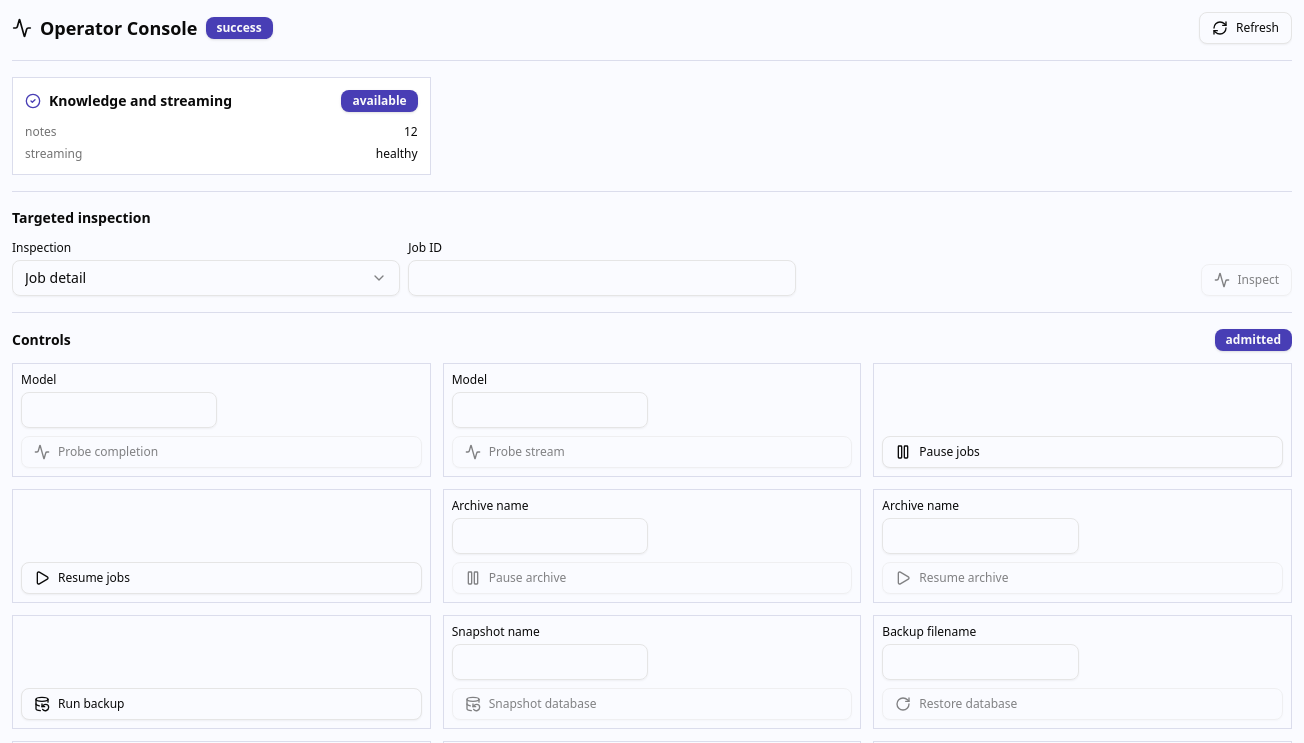
Test case: OperatorConsole › runs a bounded targeted inspection without rendering identifiers
The width and height of the screenshot is (1304, 743).
expect the heading "Knowledge and streaming" is shown: met, box [49,91,232,111]
Type "job-123" into the field labelled "Job ID". click: (602, 278)
box: [408,260,796,296]
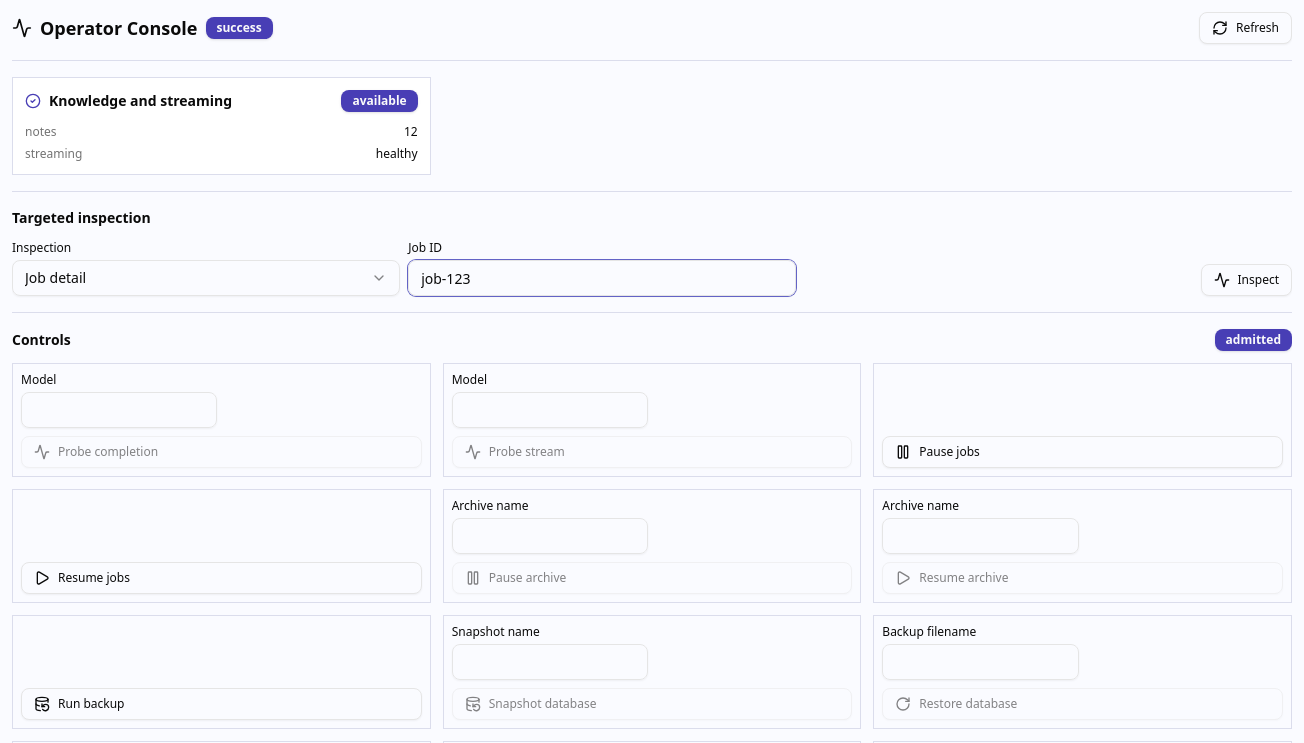
Click the button "Inspect". click: (1246, 280)
box: [1200,264,1292,296]
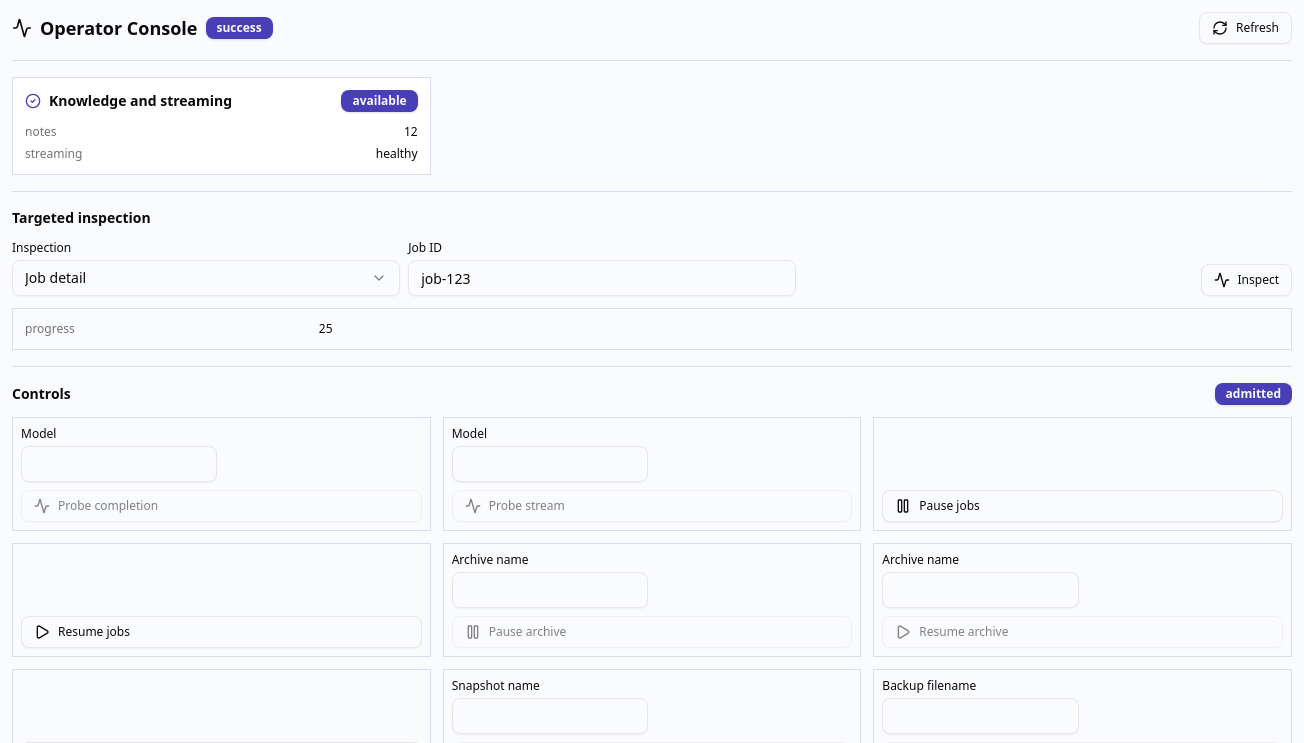
expect the element with test id "inspection-result" shows "progress": met, box [25,320,75,337]
